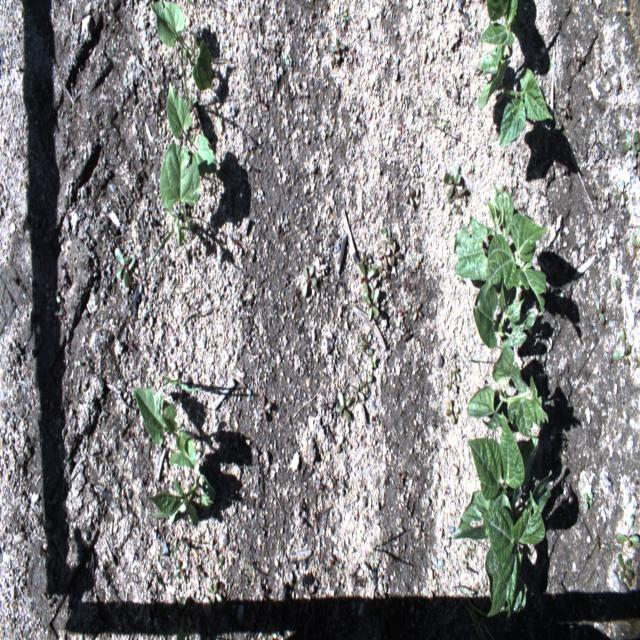crop: (451, 411, 554, 623), (467, 346, 548, 440), (478, 57, 552, 147), (485, 213, 548, 316), (454, 184, 514, 282), (151, 1, 213, 91), (132, 388, 196, 470), (147, 455, 215, 528), (473, 274, 539, 349), (167, 82, 216, 176), (160, 141, 200, 251), (478, 0, 518, 78)
weed: (450, 586, 494, 638), (176, 47, 203, 112), (147, 218, 176, 270), (114, 247, 137, 288), (443, 164, 467, 203), (615, 512, 639, 549), (622, 128, 640, 169), (162, 375, 201, 392), (368, 534, 384, 575), (359, 261, 376, 297), (612, 330, 630, 364), (362, 288, 380, 321), (617, 552, 634, 584), (302, 261, 316, 299), (336, 390, 351, 424), (432, 101, 450, 127), (613, 179, 629, 208), (206, 578, 223, 604), (330, 36, 346, 61), (556, 434, 568, 466), (360, 367, 373, 396), (348, 382, 365, 404), (594, 294, 606, 325), (172, 559, 188, 582), (378, 240, 391, 268), (628, 222, 640, 252), (388, 241, 400, 269), (446, 400, 459, 424), (320, 395, 334, 417), (362, 331, 373, 357), (447, 368, 458, 393), (612, 277, 623, 302), (558, 97, 571, 117), (599, 189, 610, 212), (367, 278, 378, 300), (136, 270, 146, 294), (582, 491, 594, 511), (380, 226, 393, 244), (404, 183, 414, 206), (170, 536, 182, 554), (412, 301, 422, 321), (575, 50, 585, 70), (398, 324, 409, 340), (452, 361, 460, 383), (632, 352, 640, 374), (397, 470, 407, 486), (590, 534, 600, 550), (246, 560, 253, 582), (328, 428, 337, 445), (377, 265, 386, 282), (402, 277, 411, 290), (196, 566, 204, 580), (369, 353, 376, 369), (453, 203, 462, 215), (396, 306, 406, 316), (316, 480, 323, 494), (469, 544, 475, 559), (218, 554, 224, 568), (178, 598, 186, 607), (217, 114, 222, 126)
